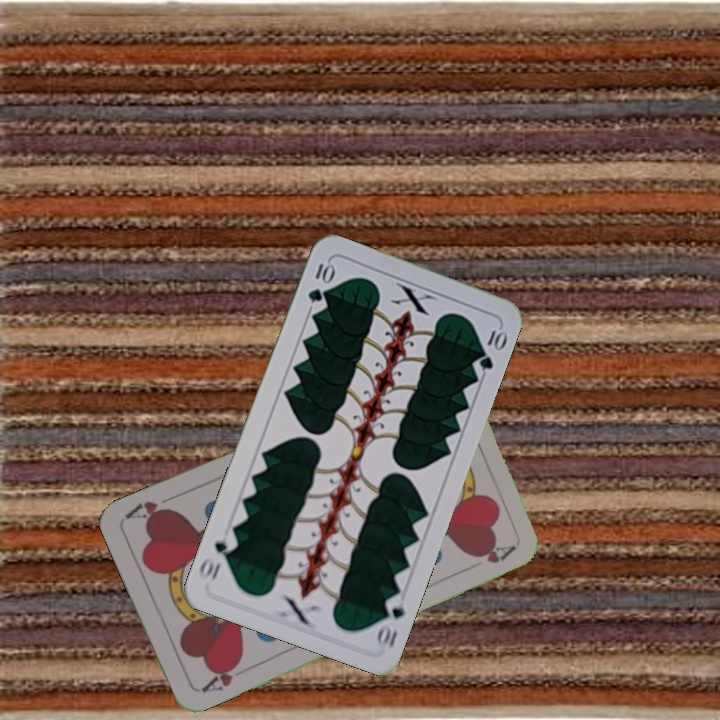G10: (372, 590, 408, 650), (304, 258, 337, 306)
HA: (197, 657, 244, 696)
